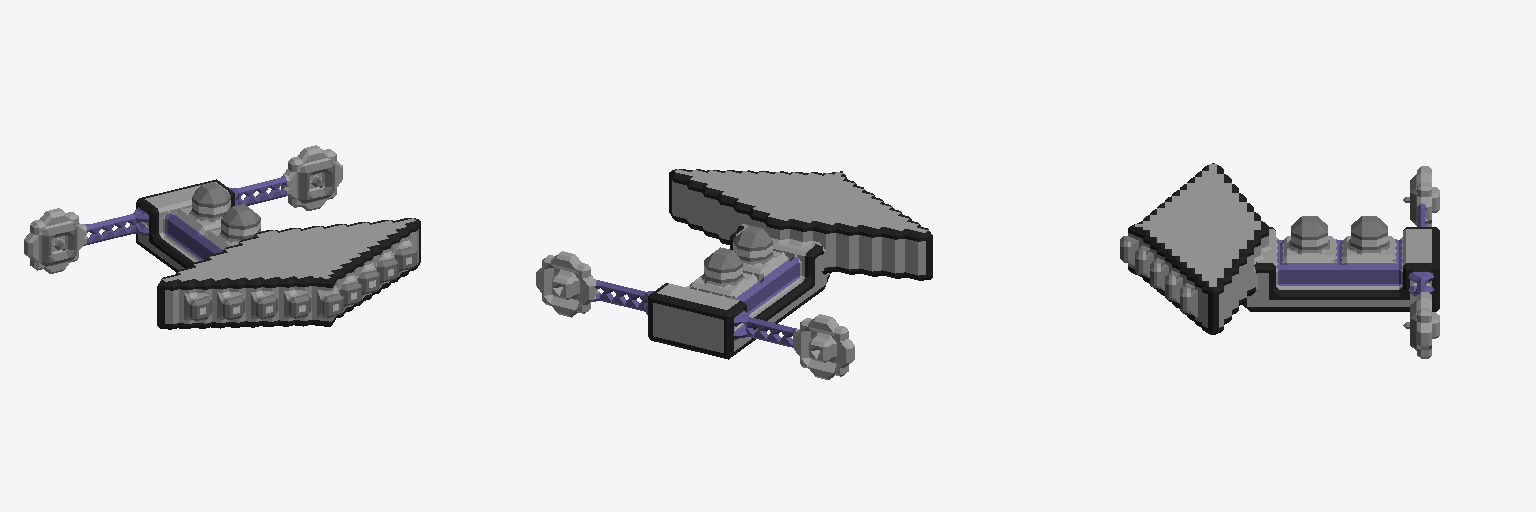
3 views of the same model, side by side, from view 1: azimuth 30°, elevation 25°; view 2: azimuth 150°, elevation 25°; view 3: azimuth 270°, elevation 25° (orthographic).
Bounding box in the file's own units: 49 × 11 × 43.
Materials: 1 (1 with a texture image).